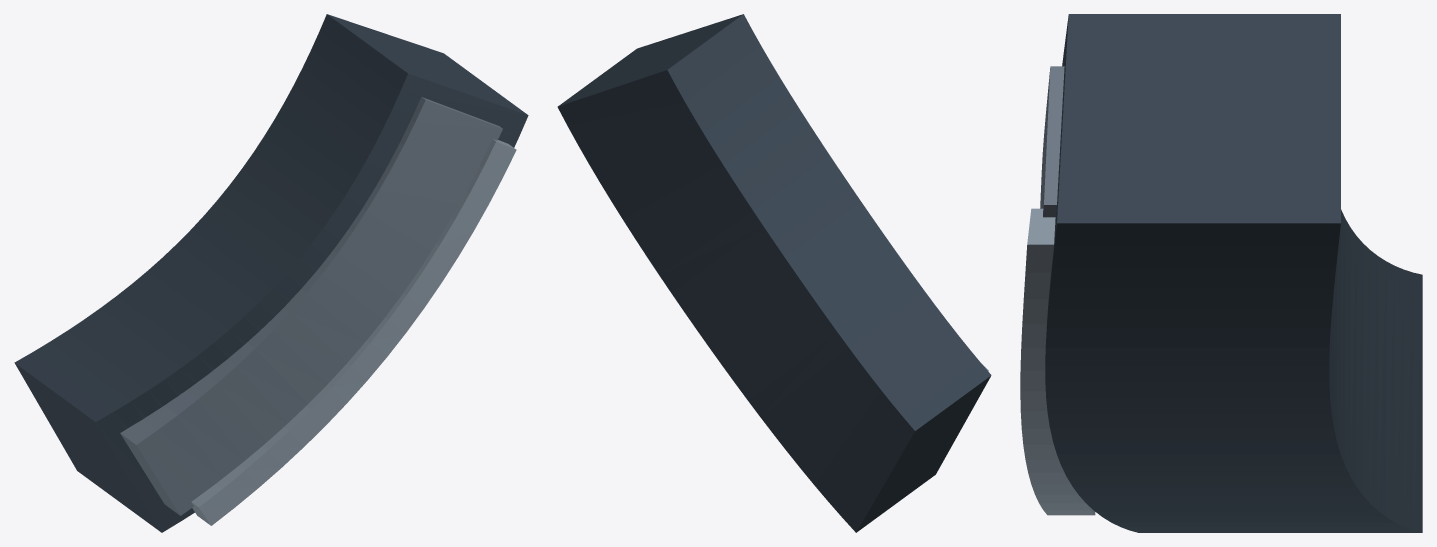
Rendered from ev_core_r10dp_mid_se.glb.
The picture shows the model from 3 angles, left to right: view 1: azimuth 30°, elevation 25°; view 2: azimuth 150°, elevation 25°; view 3: azimuth 270°, elevation 25°; orthographic projection. The views are drawn at different scales.
Visible parts, largest first — view 1: mid_se_body, mid_se_inset, mid_se_edge; view 2: mid_se_body; view 3: mid_se_body, mid_se_edge, mid_se_inset.
Boxes of the visible parts, x1=… form: mid_se_body: x1=14, y1=14, x2=528, y2=532; mid_se_inset: x1=120, y1=97, x2=502, y2=515; mid_se_edge: x1=191, y1=139, x2=516, y2=525; mid_se_body: x1=557, y1=14, x2=991, y2=532; mid_se_body: x1=1045, y1=14, x2=1422, y2=532; mid_se_edge: x1=1020, y1=208, x2=1095, y2=515; mid_se_inset: x1=1040, y1=66, x2=1064, y2=217.
Size of the model in its own units: 57.54 by 56.99 by 29.55.
